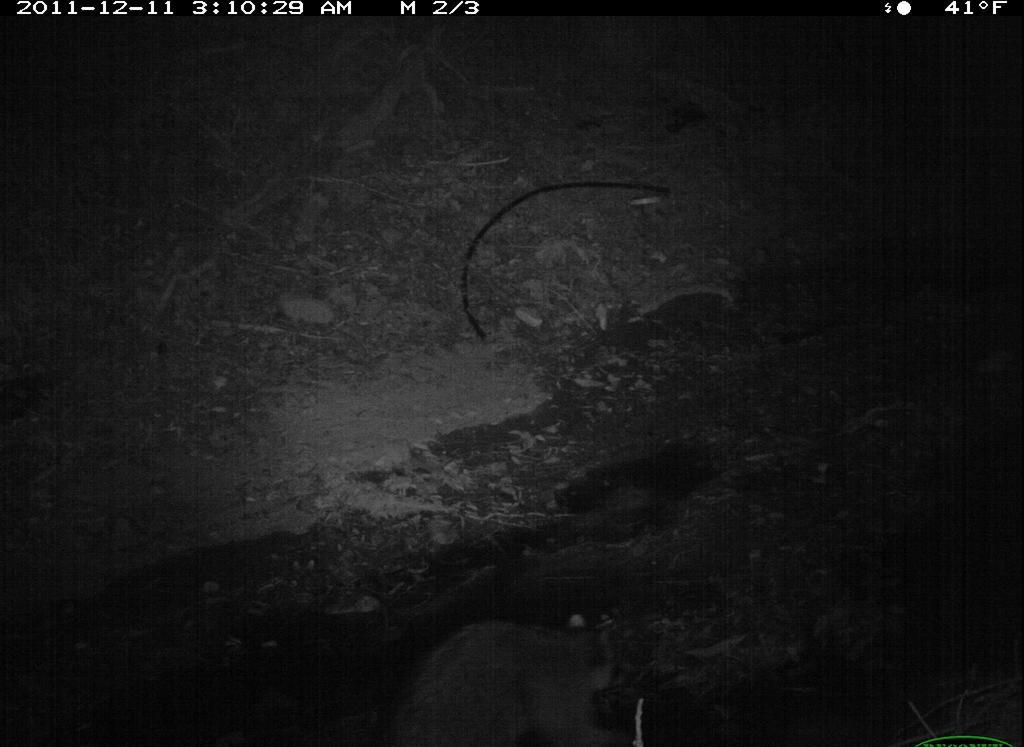raccoon: (372, 573, 616, 747)
